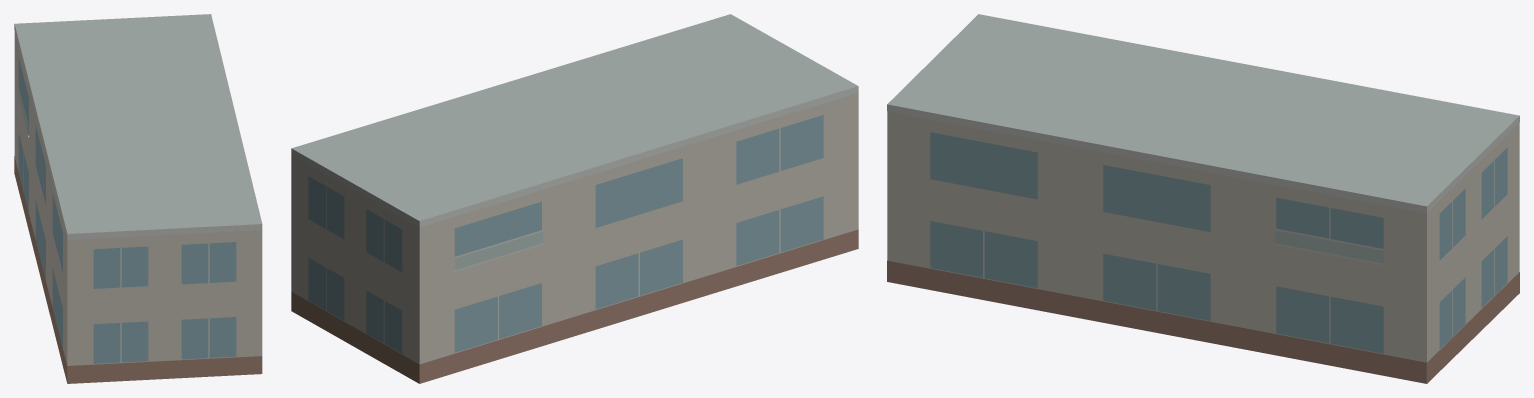
File: survey-upis-32532822.glb
3 renders of one model, left to right at view 1: azimuth 30°, elevation 25°; view 2: azimuth 150°, elevation 25°; view 3: azimuth 270°, elevation 25°, orthographic. The views are drawn at different scales.
Parts seen in each view (by area): view 1: survey-upis-32532822.tmp; view 2: survey-upis-32532822.tmp; view 3: survey-upis-32532822.tmp.
Boxes of the visible parts, x1,y1,x2,y2 form: survey-upis-32532822.tmp: (14, 14, 262, 383); survey-upis-32532822.tmp: (291, 14, 858, 383); survey-upis-32532822.tmp: (887, 14, 1519, 383).
Size of the model in its own units: 14.2 by 6.1 by 19.72.
